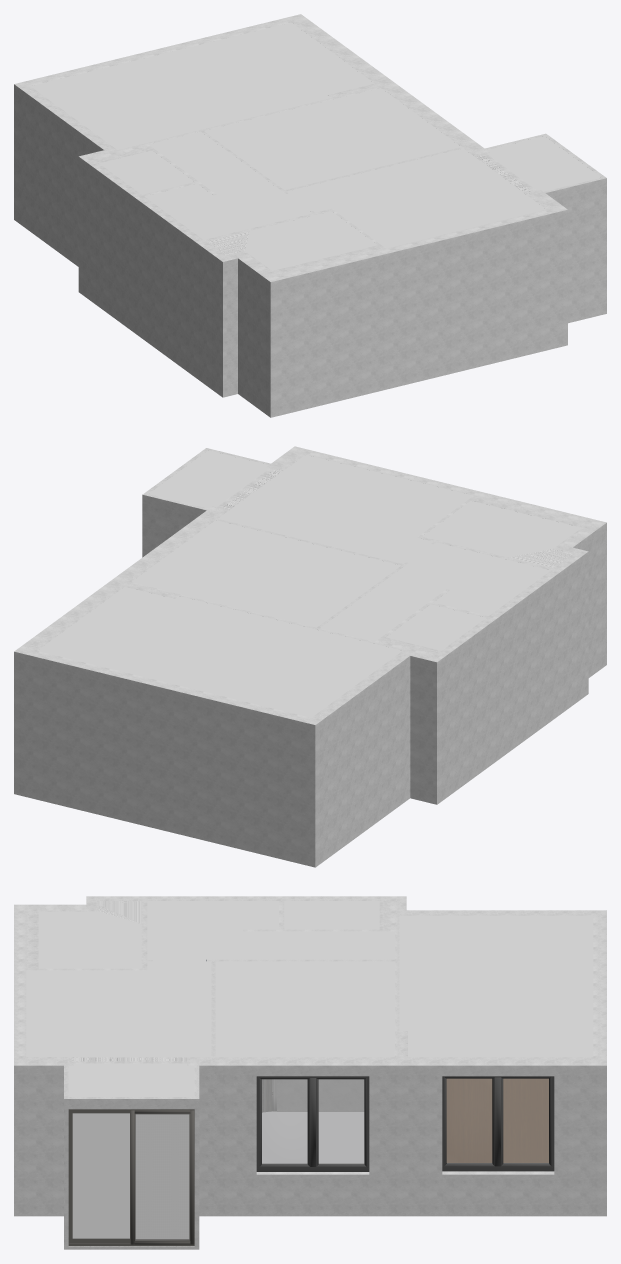
File: apt-2room-2.glb
3 renders of one model, top to bottom at view 1: azimuth 30°, elevation 25°; view 2: azimuth 150°, elevation 25°; view 3: azimuth 270°, elevation 25°, orthographic. The views are drawn at different scales.
Visible parts, largest first — view 1: Walls, Ceiling; view 2: Walls, Ceiling; view 3: Ceiling, Walls, Screen, Sash_R, Floor, Sash_L, B_2_4_3_Interior_Glass., B_2_4_4_Interior_Glass.001, B_2_4_1Exterior_Glass, B_2_4_2_Exterior_Glass..001, B_2_4_2_Exterior_Glass., B_2_4_4_Interior_Glass (+13 smaller).
Boxes of the visible parts, bbox=[...] form: Walls: bbox=[14, 14, 606, 417]; Ceiling: bbox=[30, 22, 600, 270]; Walls: bbox=[14, 446, 606, 867]; Ceiling: bbox=[37, 450, 581, 717]; Ceiling: bbox=[26, 901, 593, 1096]; Walls: bbox=[14, 896, 606, 1249]; Screen: bbox=[130, 1110, 194, 1244]; Sash_R: bbox=[69, 1110, 129, 1242]; Floor: bbox=[447, 1079, 548, 1162]; Sash_L: bbox=[130, 1110, 189, 1242]; B_2_4_3_Interior_Glass.: bbox=[262, 1079, 307, 1163]; B_2_4_4_Interior_Glass.001: bbox=[503, 1079, 548, 1163]; B_2_4_1Exterior_Glass: bbox=[262, 1079, 307, 1163]; B_2_4_2_Exterior_Glass..001: bbox=[503, 1079, 548, 1163]; B_2_4_2_Exterior_Glass.: bbox=[319, 1079, 363, 1163]; B_2_4_4_Interior_Glass: bbox=[319, 1079, 363, 1163].
Bounding box in the file's own units: 8.37 × 2.9 × 10.35.
35 materials, 13 textured.
